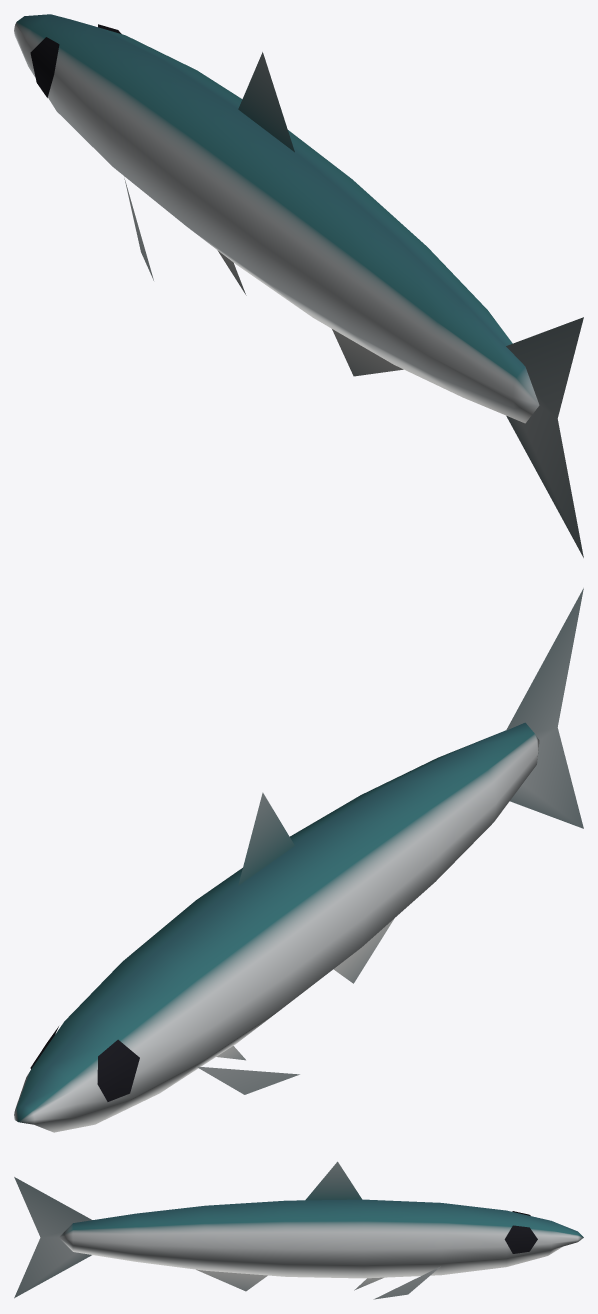
Rendered from anchovy_school.glb.
3 renders of one model, top to bottom at view 1: azimuth 30°, elevation 25°; view 2: azimuth 150°, elevation 25°; view 3: azimuth 270°, elevation 25°, orthographic. The views are drawn at different scales.
Visible parts, largest first — view 1: anchovy_school; view 2: anchovy_school; view 3: anchovy_school.
Part boxes in pixels (x1,y1,x2,y2): anchovy_school: (14, 14, 583, 557); anchovy_school: (14, 588, 583, 1132); anchovy_school: (14, 1161, 583, 1299).
Bounding box in the file's own units: 0.0209 × 0.0371 × 0.14.
